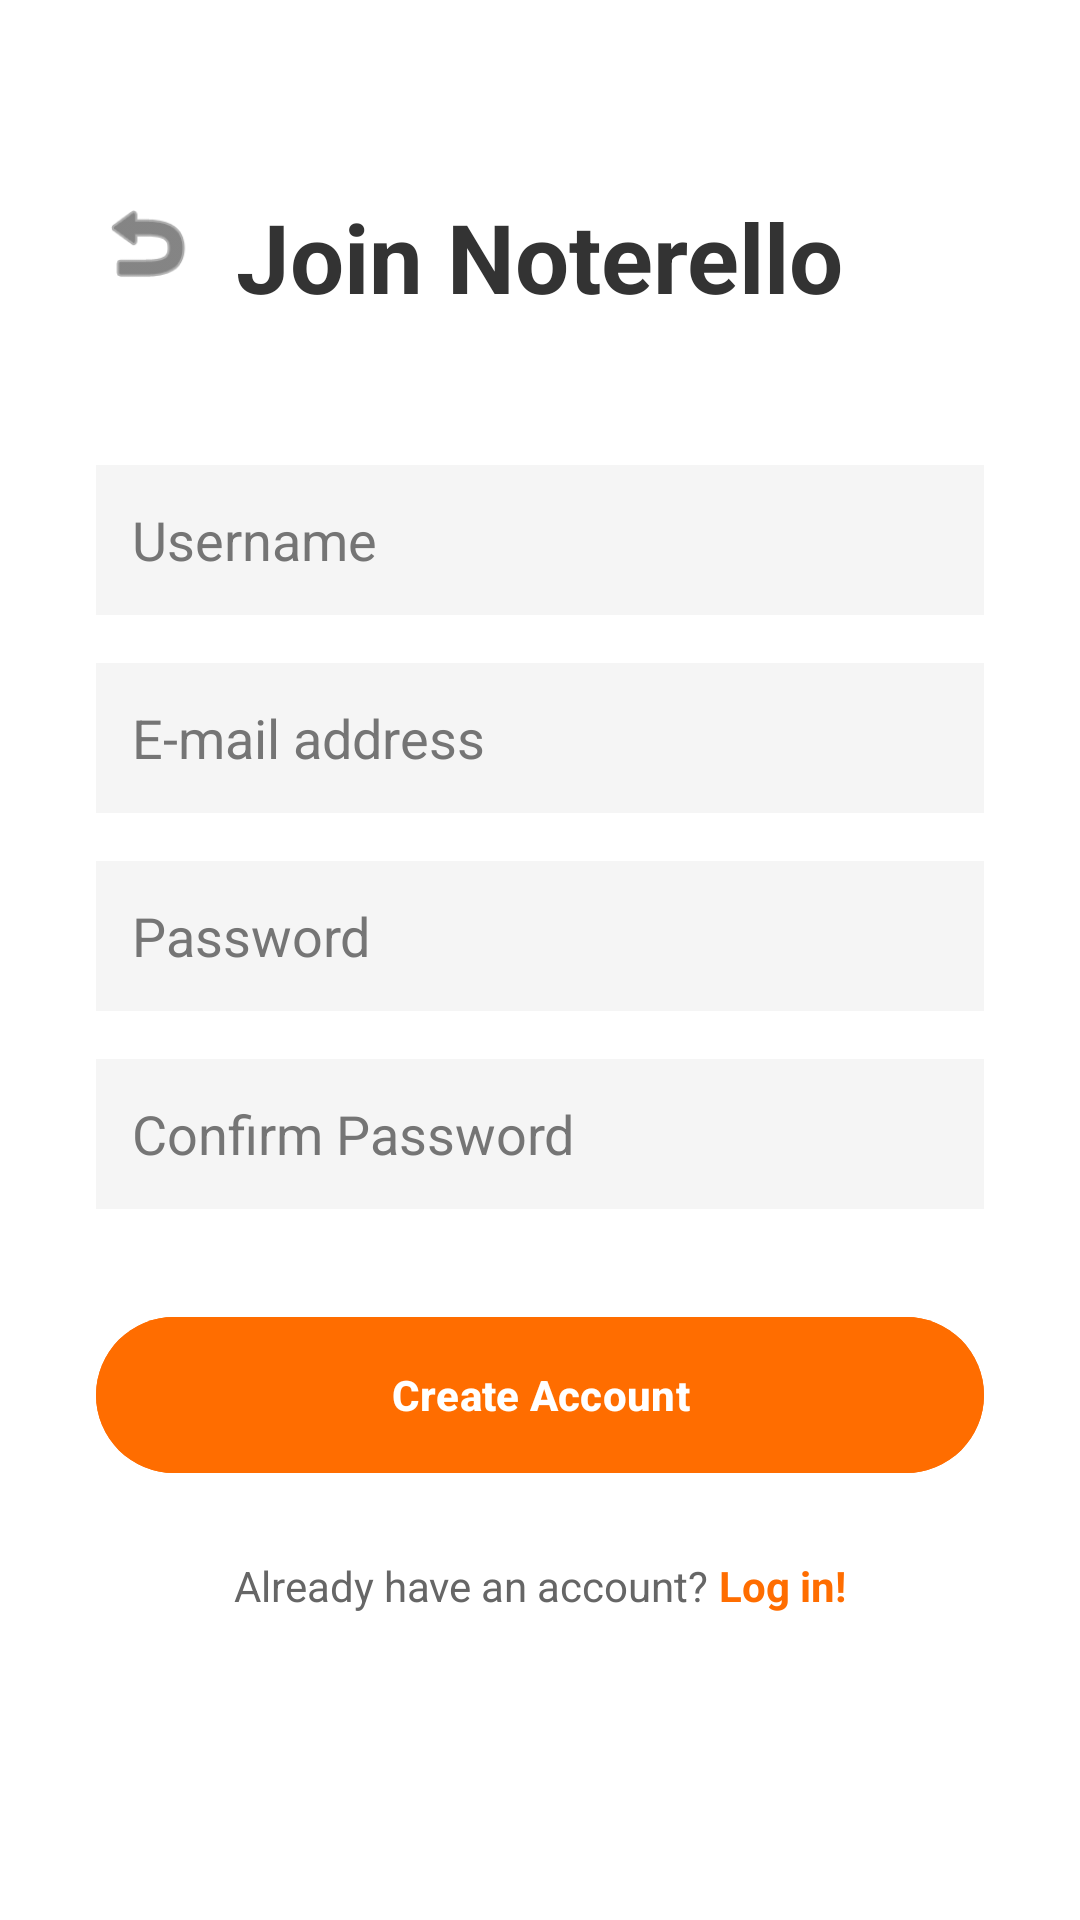

Where to tap for icons on this 1080x1920 app screen, as point (x, y):
revert: point (148, 244)
